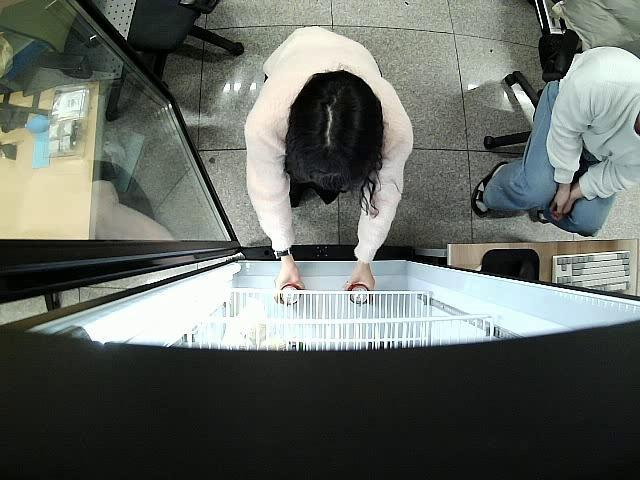11_cocaColaZero: (347, 283, 370, 304), (279, 284, 300, 304)
